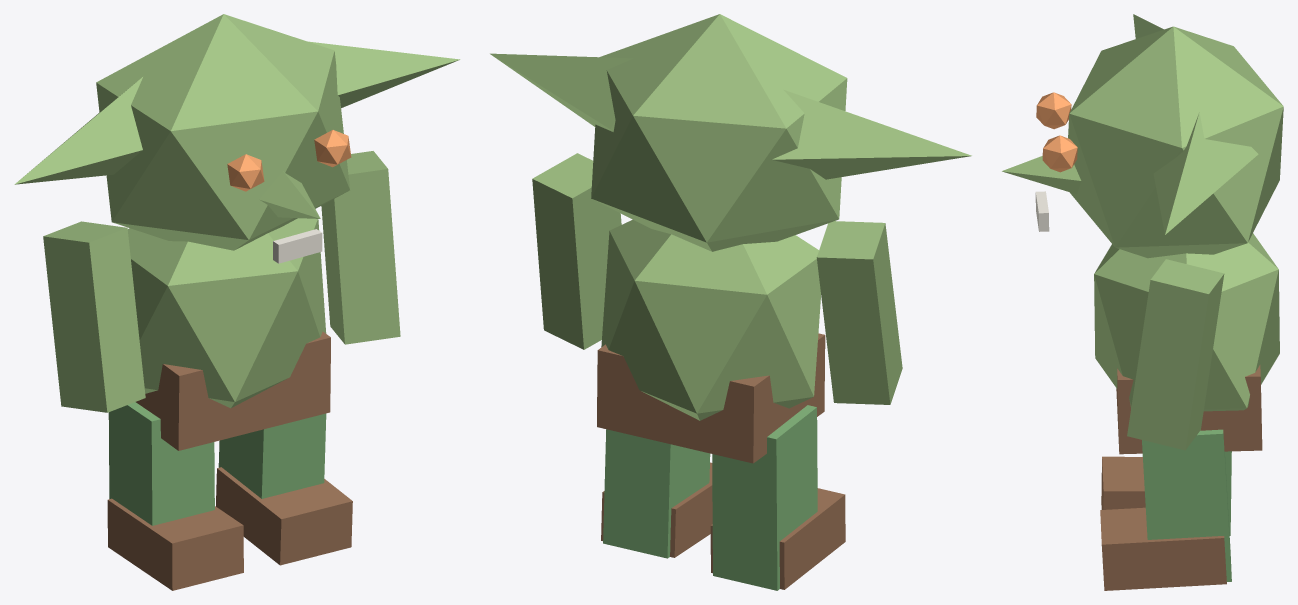
Rendered from npcpose_goblin_idle_02.glb.
The picture shows the model from 3 angles, left to right: view 1: azimuth 30°, elevation 25°; view 2: azimuth 150°, elevation 25°; view 3: azimuth 270°, elevation 25°; orthographic projection. The views are drawn at different scales.
Parts seen in each view (by area): view 1: npcpose; view 2: npcpose; view 3: npcpose.
Part boxes in pixels (box(x1,y1,x2,y2)): npcpose: box(14, 14, 460, 590); npcpose: box(490, 14, 971, 590); npcpose: box(1002, 14, 1283, 590).
Size of the model in its own units: 1.03 by 1.12 by 0.5525.
